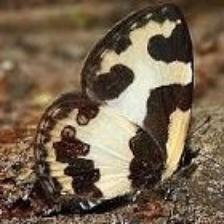butterfly: (14, 7, 193, 216)
